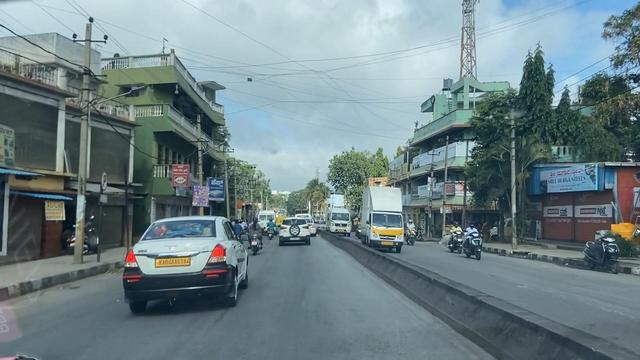LMV: (125, 219, 249, 311), (279, 216, 310, 249)
